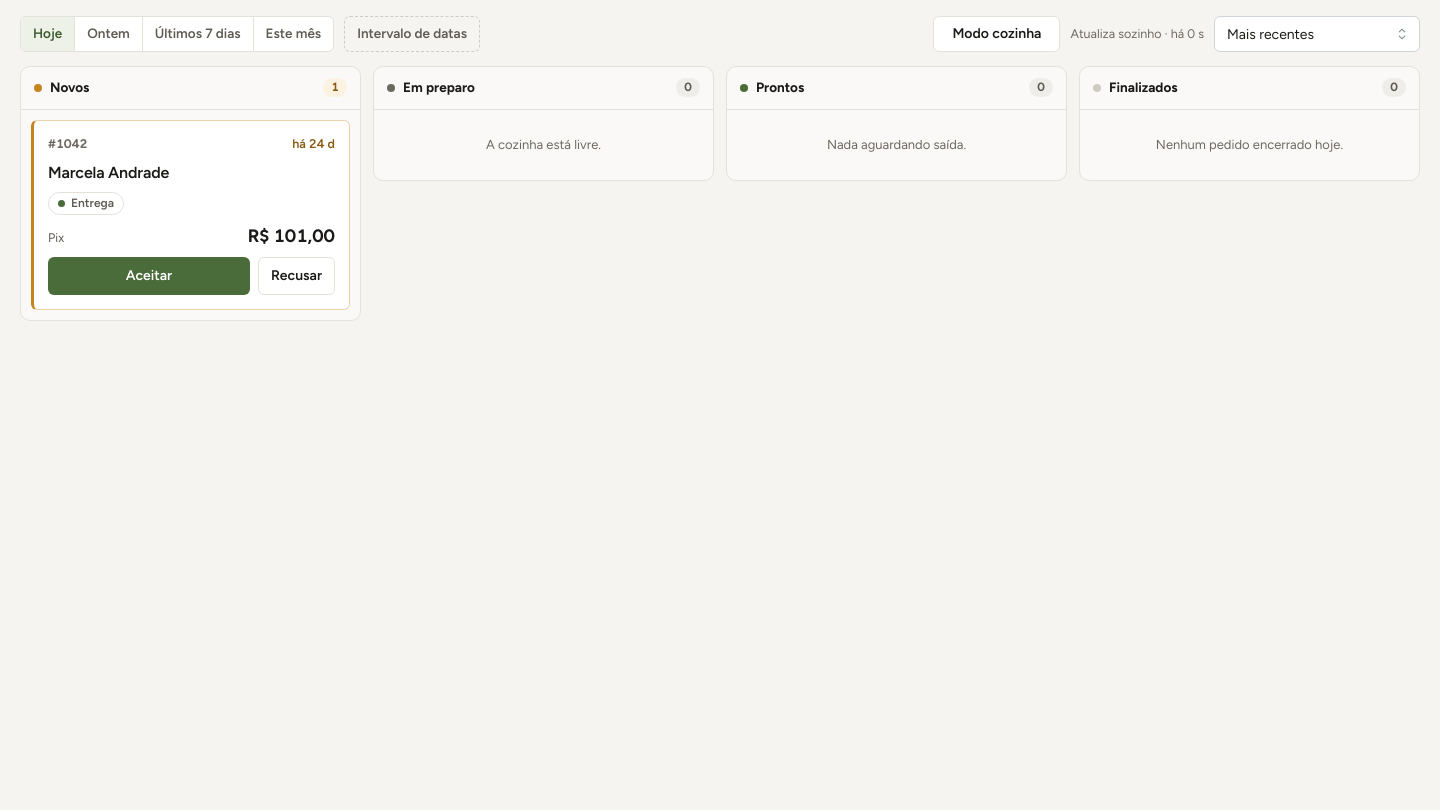
Test: ações do pedido › aceitar confirma e encadeia o preparo; se o preparo falhar, 'Começar preparo' é a rede
The width and height of the screenshot is (1440, 810).
Click the button "Aceitar". click: (149, 276)
box: [48, 257, 250, 295]
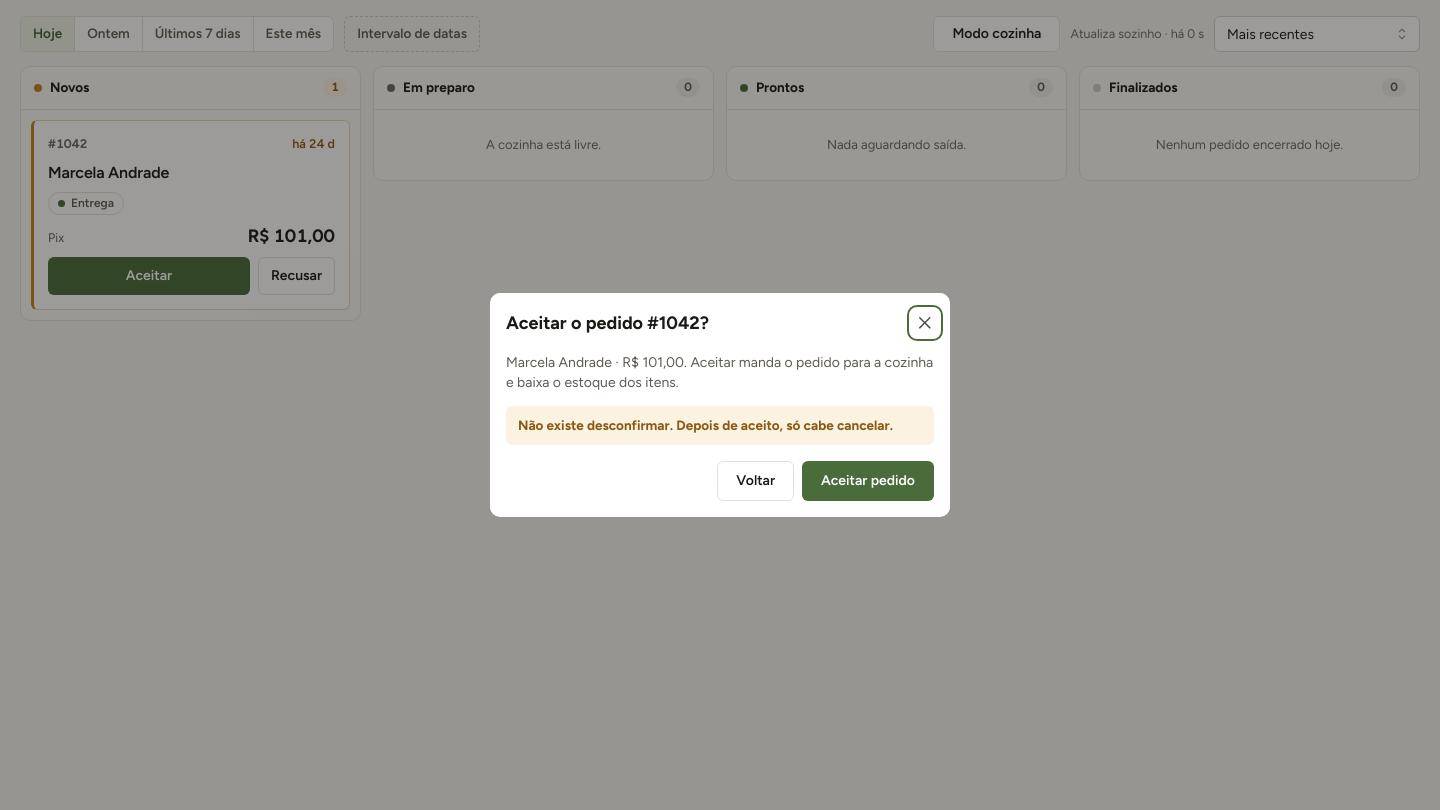
Result: the text "Não existe desconfirmar. Depois de aceito, só cabe cancelar." is shown at [506, 406, 934, 445]
Click the button "Aceitar pedido". click: (868, 481)
box: [802, 461, 934, 501]
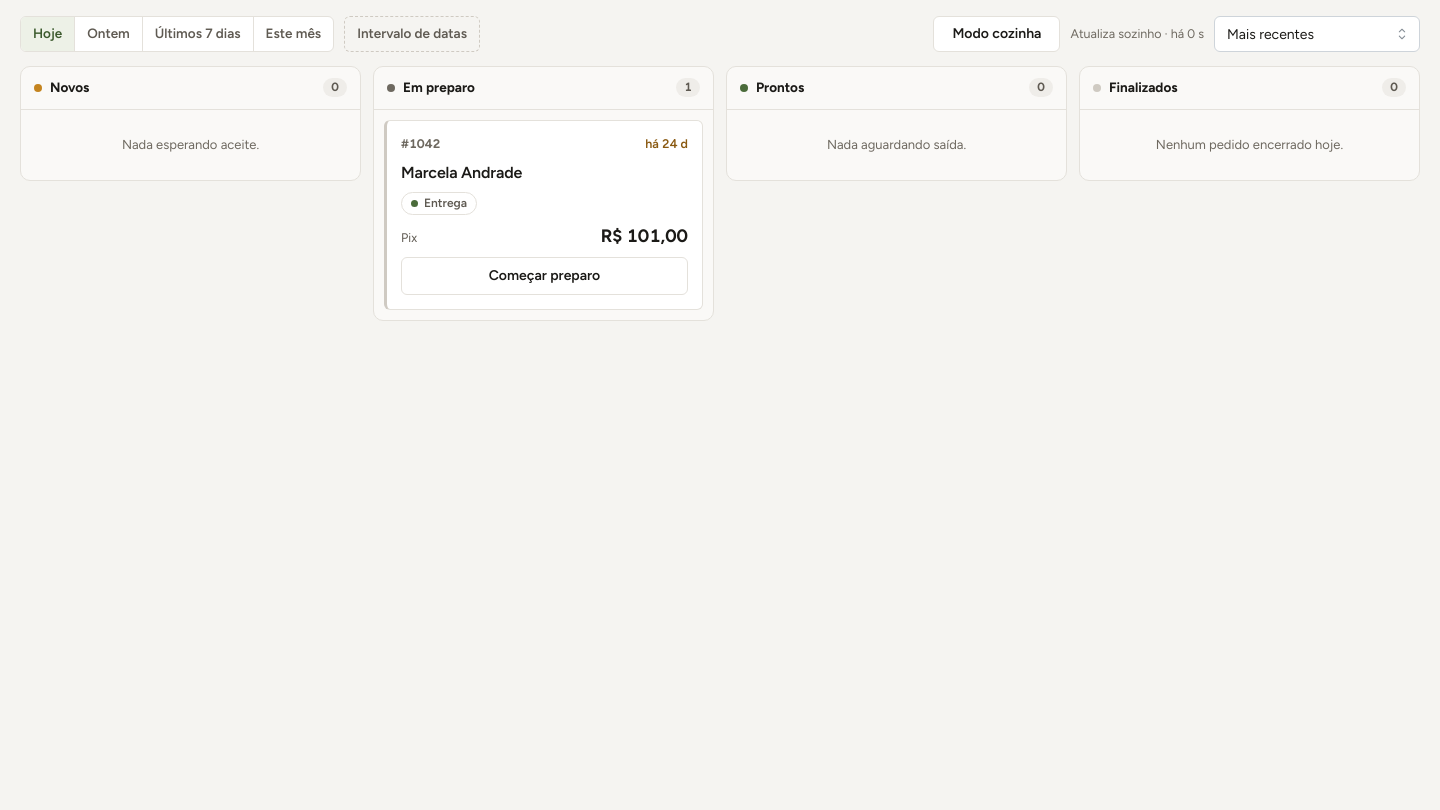
Result: the button "Começar preparo" is shown at [401, 257, 688, 295]
